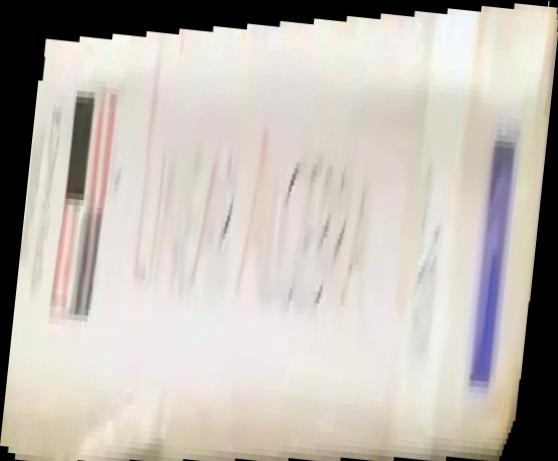flat: (1, 1, 558, 461)
